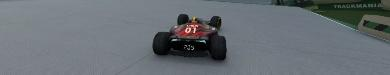Car: (151, 13, 227, 60)
obstacles-Borders: (357, 13, 389, 47)
